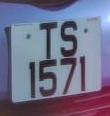1: (27, 58, 40, 102), (77, 55, 90, 96)
5: (35, 58, 61, 98)
7: (58, 56, 80, 98)
S: (58, 16, 80, 58)
T: (35, 18, 62, 63)
